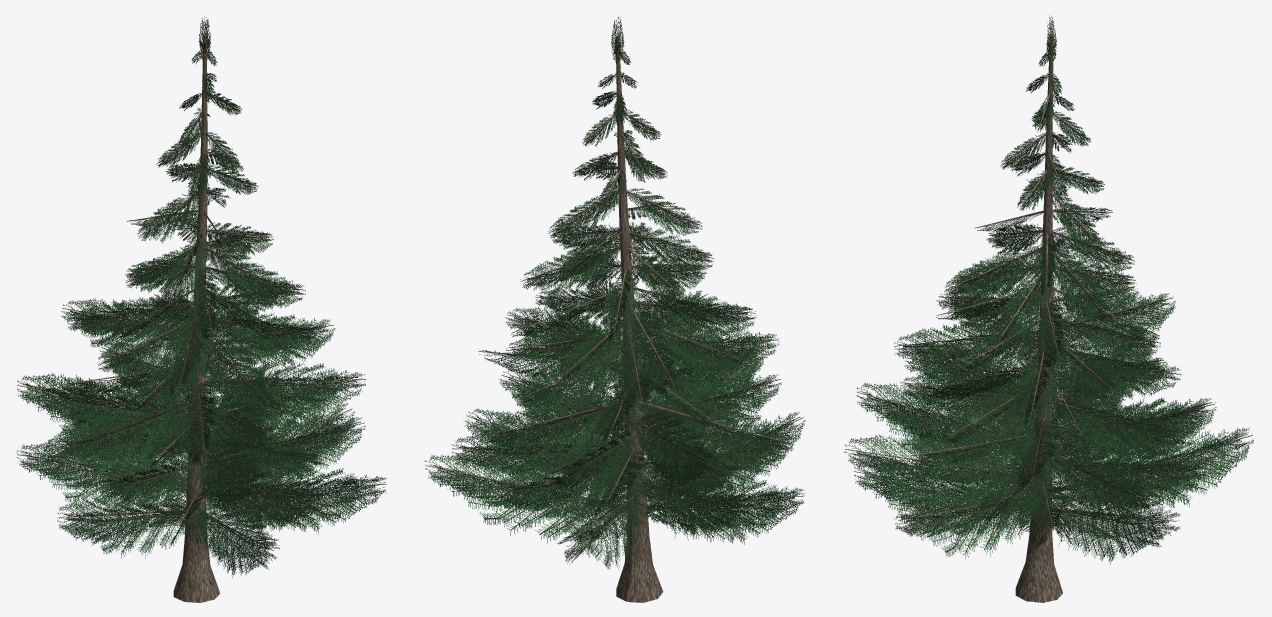
Rendered from pinheiro_vd_a.glb.
The picture shows the model from 3 angles, left to right: view 1: azimuth 30°, elevation 25°; view 2: azimuth 150°, elevation 25°; view 3: azimuth 270°, elevation 25°; orthographic projection. The views are drawn at different scales.
Parts seen in each view (by area): view 1: pinheiro_vd_a; view 2: pinheiro_vd_a; view 3: pinheiro_vd_a.
Part boxes in pixels (x1,y1,x2,y2): pinheiro_vd_a: [17, 16, 386, 602]; pinheiro_vd_a: [424, 17, 805, 602]; pinheiro_vd_a: [844, 15, 1253, 602].
Bounding box in the file's own units: 5.83 × 10.01 × 6.47.
2 materials, 2 textured.
